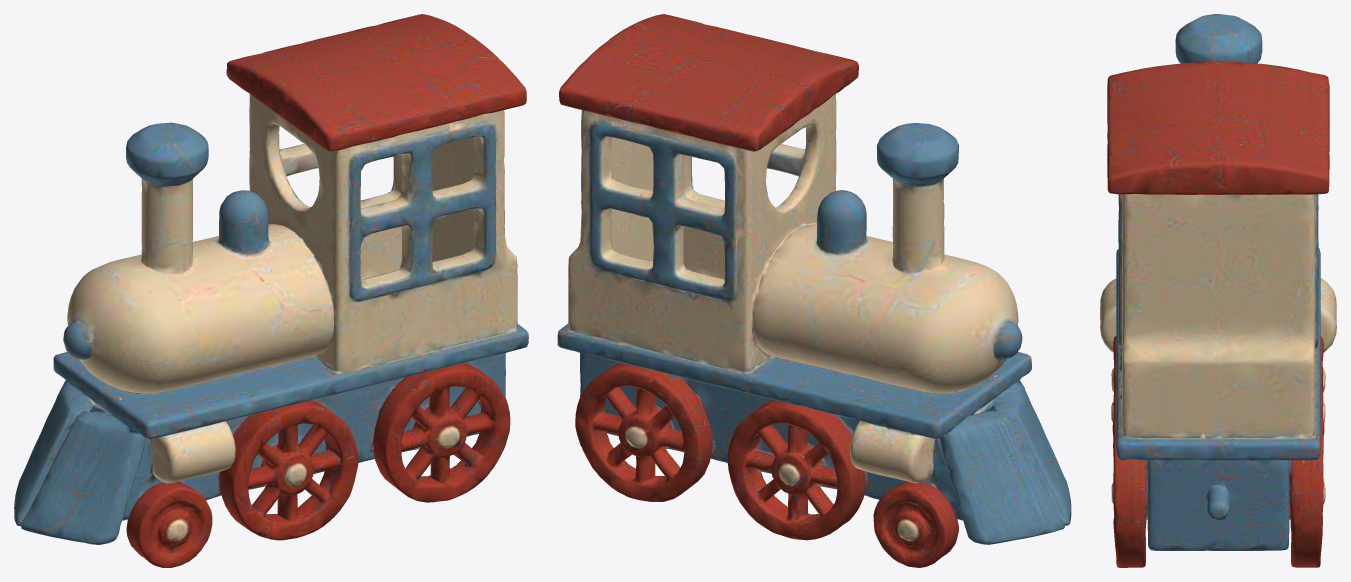
3 views of the same model, side by side, from view 1: azimuth 30°, elevation 25°; view 2: azimuth 150°, elevation 25°; view 3: azimuth 270°, elevation 25° (orthographic). The views are drawn at different scales.
Visible parts, largest first — view 1: mesh_node; view 2: mesh_node; view 3: mesh_node.
Part boxes in pixels (x1,y1,x2,y2): mesh_node: (14,14,528,567); mesh_node: (557,14,1071,567); mesh_node: (1100,14,1336,567).
Size of the model in its own units: 1.9 by 1.52 by 0.7478.
Materials: 1 (1 with a texture image).
